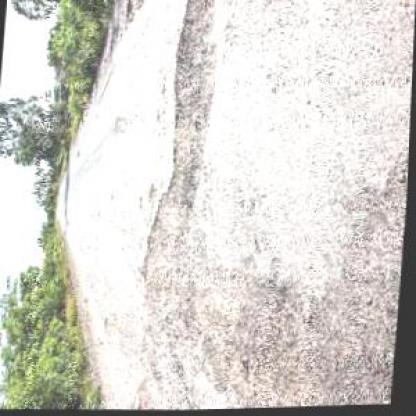pothole: (166, 0, 224, 175), (138, 188, 202, 296)
